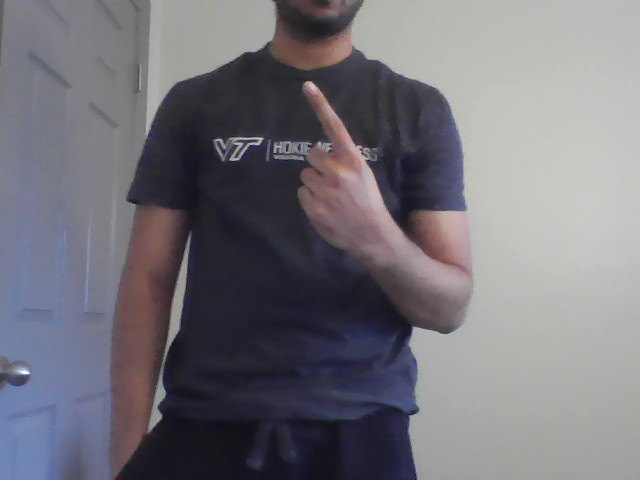one: (289, 77, 404, 231)
